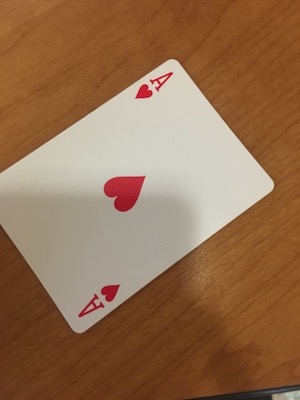AceOfHearts: (1, 54, 280, 336)
